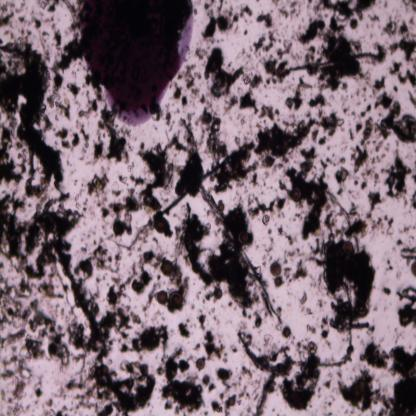Background material: (0, 37, 65, 196), (0, 194, 80, 278), (312, 238, 377, 335), (0, 278, 70, 367), (200, 110, 262, 195), (70, 358, 157, 414), (158, 155, 230, 216), (285, 149, 332, 237), (249, 114, 317, 170), (200, 248, 258, 312), (156, 345, 206, 414), (174, 199, 206, 289), (167, 118, 203, 194), (138, 141, 168, 216), (384, 344, 416, 414), (279, 366, 322, 414), (334, 372, 385, 412), (205, 48, 245, 98), (99, 106, 132, 164), (306, 59, 364, 90), (132, 249, 162, 303), (34, 0, 64, 54), (322, 18, 364, 56), (103, 188, 139, 232), (214, 154, 255, 192), (100, 310, 134, 355), (50, 28, 82, 74), (106, 263, 138, 308), (382, 152, 412, 198), (313, 0, 376, 21), (126, 214, 162, 250), (175, 66, 206, 106), (129, 324, 170, 354), (307, 113, 344, 146), (47, 72, 72, 120), (202, 2, 232, 42), (0, 2, 35, 36), (2, 372, 30, 414), (246, 195, 285, 224), (201, 328, 229, 365), (358, 338, 390, 370), (90, 242, 122, 270), (285, 78, 312, 110), (292, 19, 327, 43), (386, 36, 416, 64), (397, 284, 416, 328), (284, 251, 307, 285), (388, 61, 416, 86), (369, 215, 396, 240), (54, 126, 81, 151), (226, 206, 249, 234), (354, 117, 375, 147), (349, 146, 370, 173), (297, 342, 321, 365), (86, 172, 111, 194), (88, 136, 106, 166), (253, 31, 277, 52), (238, 90, 258, 115), (79, 93, 98, 119), (262, 224, 273, 265), (339, 94, 357, 119), (230, 4, 255, 22), (366, 190, 384, 214), (45, 398, 70, 415), (216, 369, 236, 390), (244, 70, 263, 92), (362, 166, 381, 188), (381, 16, 399, 39), (307, 92, 330, 110), (78, 258, 95, 282), (276, 2, 300, 18), (154, 104, 173, 124), (334, 168, 349, 193), (79, 125, 90, 159), (254, 11, 274, 29), (279, 224, 297, 244), (222, 394, 240, 413), (275, 60, 289, 84), (34, 372, 45, 402), (303, 45, 321, 63), (275, 42, 294, 59), (260, 104, 280, 120), (223, 95, 239, 115), (177, 318, 191, 340), (396, 18, 413, 36), (371, 74, 388, 92), (374, 92, 393, 108), (399, 246, 416, 263), (67, 80, 82, 99), (312, 128, 327, 146), (292, 291, 307, 309), (322, 370, 334, 391), (86, 206, 104, 220), (203, 374, 216, 393), (410, 172, 416, 209), (128, 176, 146, 188), (320, 317, 330, 338), (196, 314, 208, 330), (48, 2, 60, 16), (394, 230, 404, 246), (347, 18, 360, 30), (403, 0, 416, 12), (360, 104, 372, 117), (408, 90, 416, 107), (385, 258, 394, 271), (254, 314, 262, 328), (132, 312, 141, 323), (368, 13, 379, 22), (411, 260, 416, 277), (382, 286, 392, 294), (241, 26, 248, 36)
Cellulose filter fibre: (200, 186, 277, 316), (51, 241, 100, 347), (236, 334, 286, 414), (283, 47, 385, 76), (326, 186, 358, 253)
Diatom: (294, 307, 354, 371), (372, 100, 416, 145), (163, 162, 174, 190), (168, 291, 183, 309), (236, 228, 250, 245), (154, 219, 168, 233), (112, 220, 125, 235), (161, 262, 174, 276), (342, 241, 354, 256), (270, 260, 281, 276), (290, 188, 302, 202), (156, 290, 167, 304), (265, 61, 275, 74), (281, 326, 291, 337), (196, 358, 205, 370), (274, 275, 282, 287), (218, 202, 224, 212)
Pen: (77, 0, 194, 125)
